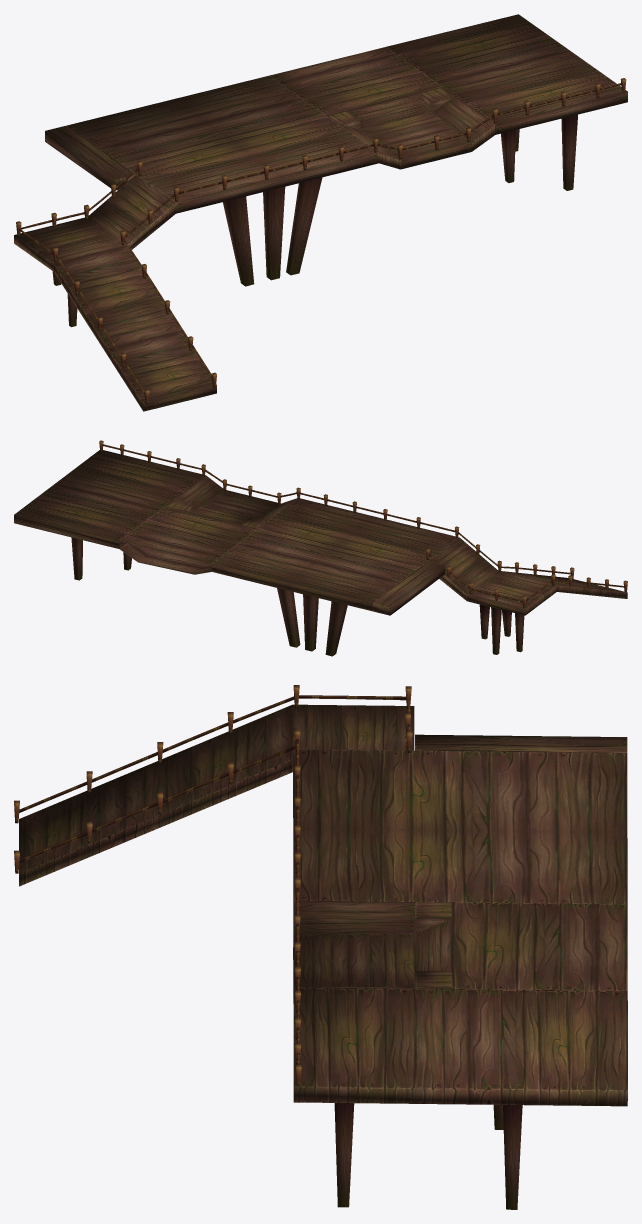
File: environment_Building_diaojiaolou_001_g.FBX
3 views of the same model, one above another, from view 1: azimuth 30°, elevation 25°; view 2: azimuth 150°, elevation 25°; view 3: azimuth 270°, elevation 25° (orthographic). The views are drawn at different scales.
Parts seen in each view (by area): view 1: environment_Building_diaojiaolou_001_g03, environment_Building_diaojiaolou_001_g01, environment_Building_diaojiaolou_001_g02; view 2: environment_Building_diaojiaolou_001_g03, environment_Building_diaojiaolou_001_g01, environment_Building_diaojiaolou_001_g02; view 3: environment_Building_diaojiaolou_001_g03, environment_Building_diaojiaolou_001_g02, environment_Building_diaojiaolou_001_g01.
Part boxes in pixels (x1,y1,x2,y2): environment_Building_diaojiaolou_001_g03: (14,14,627,411); environment_Building_diaojiaolou_001_g01: (52,114,577,327); environment_Building_diaojiaolou_001_g02: (16,78,626,404); environment_Building_diaojiaolou_001_g03: (14,450,627,615); environment_Building_diaojiaolou_001_g01: (71,537,524,656); environment_Building_diaojiaolou_001_g02: (99,440,627,607); environment_Building_diaojiaolou_001_g03: (19,704,627,1106); environment_Building_diaojiaolou_001_g02: (14,685,412,1084); environment_Building_diaojiaolou_001_g01: (334,1103,522,1209).
Bounding box in the file's own units: 2377 × 1437 × 620.
